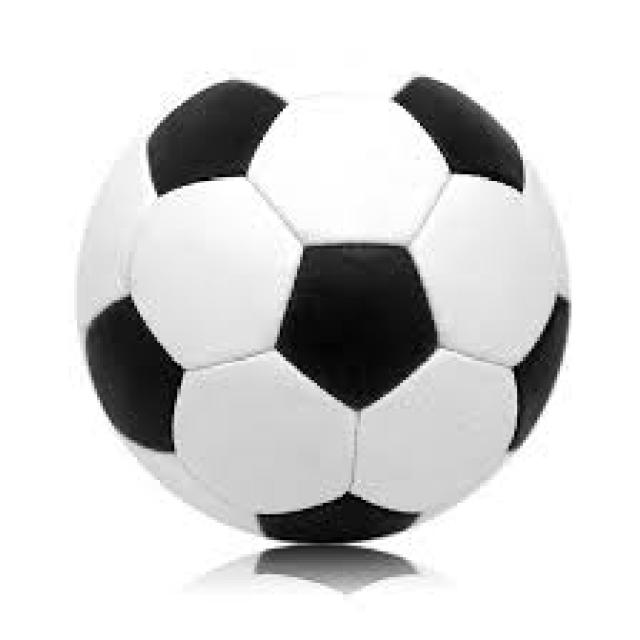ball: (74, 56, 573, 544)
